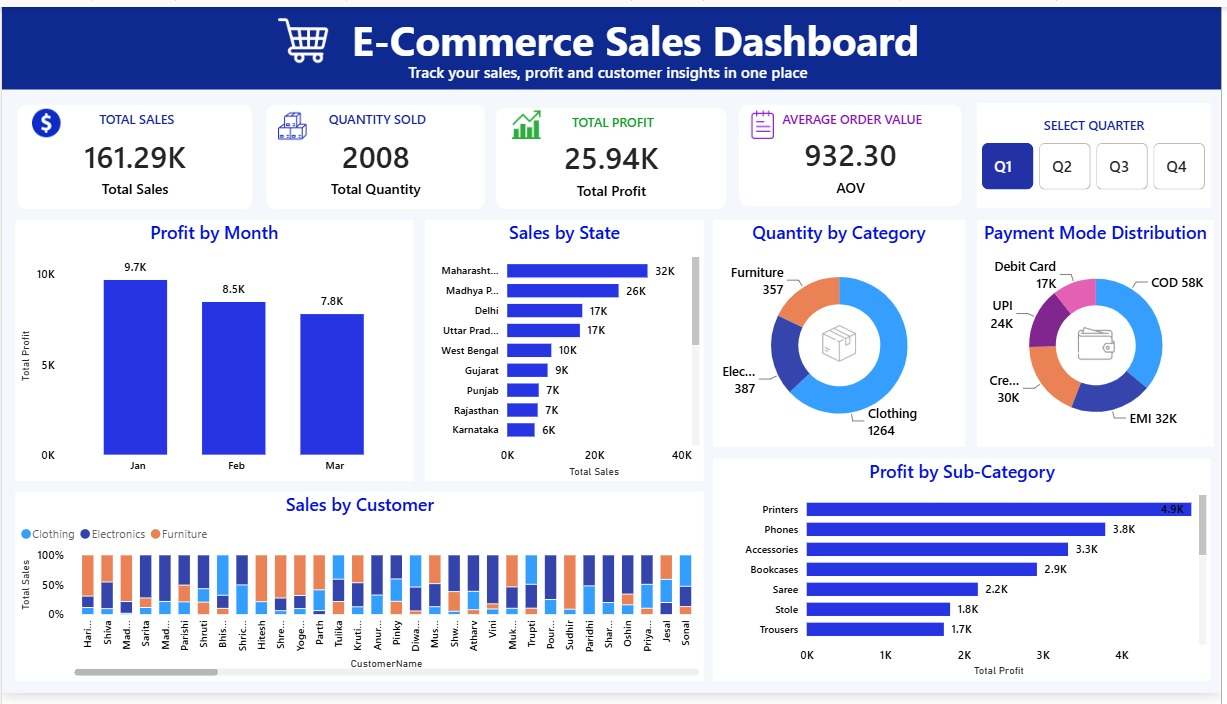

This screenshot's page, from the dashboard's own definition file:
{"tool":"powerbi","page":{"name":"Page 1","canvas":[1280,720],"ordinal":0},"visuals":[{"type":"shape","box":[0,0,1280.5,86.6],"z":0},{"type":"textbox","box":[362.5,0,621.8,68.9],"z":1000},{"type":"textbox","box":[334.2,52.7,613.7,34.4],"z":2000},{"type":"card","title":"TOTAL SALES","fields":{"Values":["Details.Total Sales"]},"box":[14.2,100.8,250.4,113.4],"z":3000},{"type":"card","title":"QUANTITY SOLD","fields":{"Values":["Details.Total Quantity"]},"box":[275.6,100.8,233.1,113.4],"z":4000},{"type":"card","title":"TOTAL PROFIT","fields":{"Values":["Details.Total Profit"]},"box":[516.6,104,245.7,110.3],"z":5000},{"type":"card","title":"AVERAGE ORDER VALUE","fields":{"Values":["Details.Average order value"]},"box":[771.8,100.8,237.8,110.3],"z":6000},{"type":"advancedSlicerVisual","title":"SELECT QUARTER","fields":{"Values":["Date Table.Quarter"]},"box":[1023.8,100.8,245.7,110.3],"z":7000},{"type":"clusteredColumnChart","title":"Profit by Month","fields":{"Category":["Date Table.Month"],"Y":["Details.Total Profit"]},"box":[14.2,223.7,417.4,274.1],"z":8000},{"type":"clusteredBarChart","title":"Sales by State","fields":{"Category":["Orders.State","Orders.City"],"Y":["Details.Total Sales"]},"box":[444.2,223.7,293,274.1],"z":9000},{"type":"hundredPercentStackedColumnChart","title":"Sales by Customer","fields":{"Category":["Orders.CustomerName"],"Series":["Details.Category"],"Y":["Details.Total Sales"]},"box":[14.2,508.8,723,198.5],"z":10000},{"type":"donutChart","title":"Quantity by Category","fields":{"Category":["Details.Category","Details.Sub-Category"],"Y":["Details.Total Quantity"]},"box":[746.6,223.7,264.6,237.8],"z":11000},{"type":"donutChart","title":"Payment Mode Distribution","fields":{"Category":["Details.PaymentMode"],"Y":["Details.Total Sales"]},"box":[1023.8,223.7,248.9,237.8],"z":12000},{"type":"clusteredBarChart","title":"Profit by Sub-Category","fields":{"Category":["Details.Sub-Category","Details.Category"],"Y":["Details.Total Profit"]},"box":[746.6,474.1,522.9,233.1],"z":13000},{"type":"image","box":[289.6,2,52.7,66.8],"z":14000},{"type":"image","box":[31.5,100.8,29.9,42.5],"z":15000},{"type":"image","box":[289.8,104,29.9,42.5],"z":16000},{"type":"image","box":[784.4,104,29.9,39.4],"z":17000},{"type":"image","box":[856.7,334.2,44.6,38.5],"z":18000},{"type":"image","box":[1128,334,42.5,38.5],"z":19000},{"type":"image","box":[535.5,104,29.9,39.4],"z":20000}]}

Visuals, with their boxes in screenshot pixels (x1, y1, x2, y2), scaled from the page's 1280x720 canvas onto the 1227x704 screenshot:
shape: box=[0, 0, 1226, 85]
textbox: box=[347, 0, 944, 67]
textbox: box=[320, 52, 909, 85]
"TOTAL SALES" card: box=[14, 99, 254, 209]
"QUANTITY SOLD" card: box=[264, 99, 488, 209]
"TOTAL PROFIT" card: box=[495, 102, 731, 210]
"AVERAGE ORDER VALUE" card: box=[740, 99, 968, 206]
"SELECT QUARTER" advancedSlicerVisual: box=[981, 99, 1217, 206]
"Profit by Month" clusteredColumnChart: box=[14, 219, 414, 487]
"Sales by State" clusteredBarChart: box=[426, 219, 707, 487]
"Sales by Customer" hundredPercentStackedColumnChart: box=[14, 497, 707, 692]
"Quantity by Category" donutChart: box=[716, 219, 969, 451]
"Payment Mode Distribution" donutChart: box=[981, 219, 1220, 451]
"Profit by Sub-Category" clusteredBarChart: box=[716, 464, 1217, 691]
image: box=[278, 2, 328, 67]
image: box=[30, 99, 59, 140]
image: box=[278, 102, 306, 143]
image: box=[752, 102, 781, 140]
image: box=[821, 327, 864, 364]
image: box=[1081, 327, 1122, 364]
image: box=[513, 102, 542, 140]
